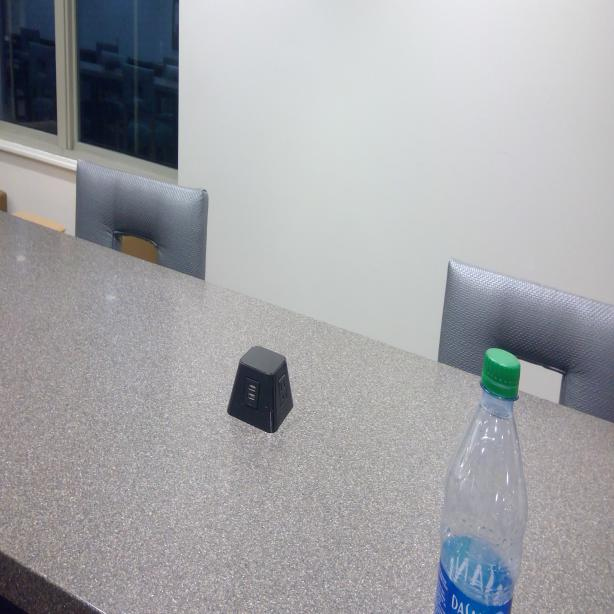typeb: (277, 372, 289, 404)
